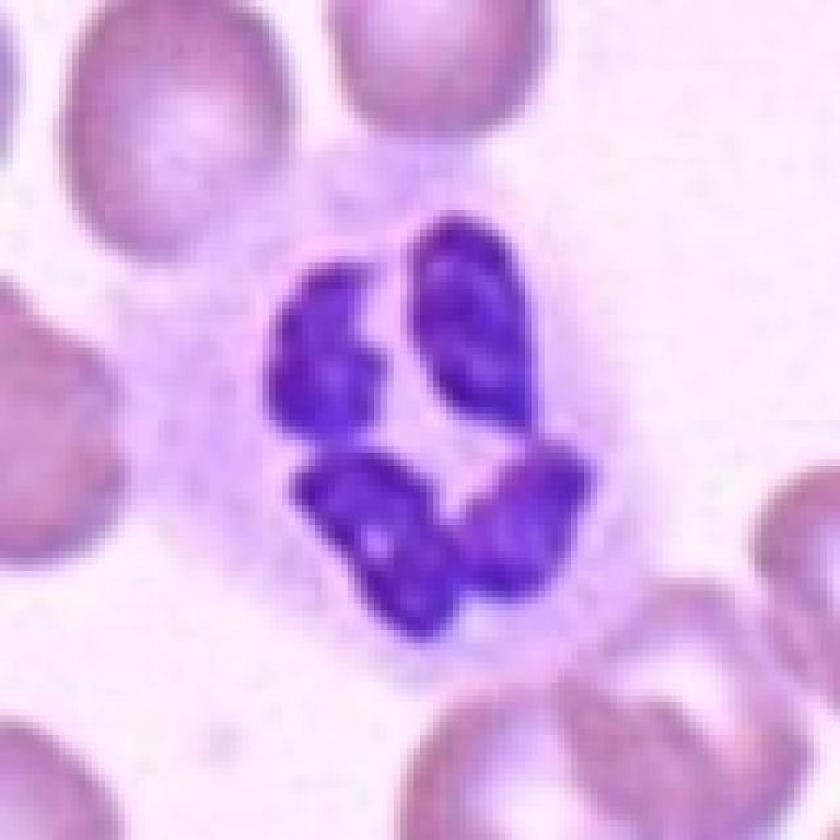neutrophil: (117, 143, 667, 693)
